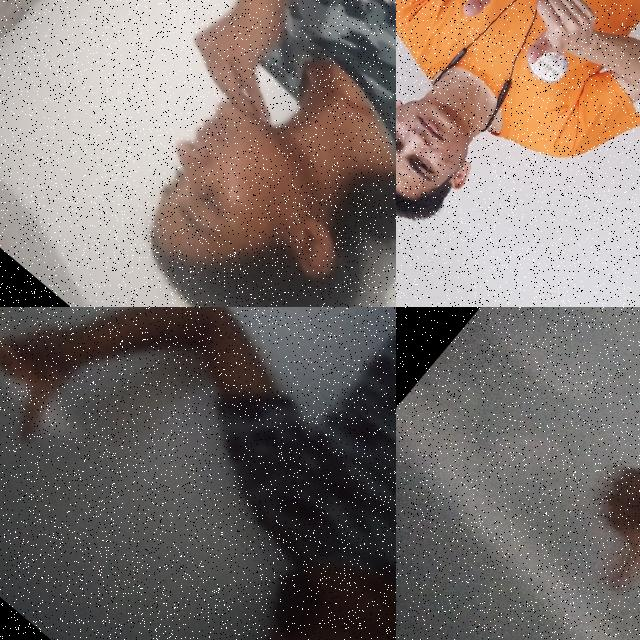Chin Flick: (43, 0, 396, 307)
Corna: (0, 307, 107, 457)
Thumbs Up: (547, 439, 640, 619), (497, 0, 611, 87), (429, 0, 543, 34)
